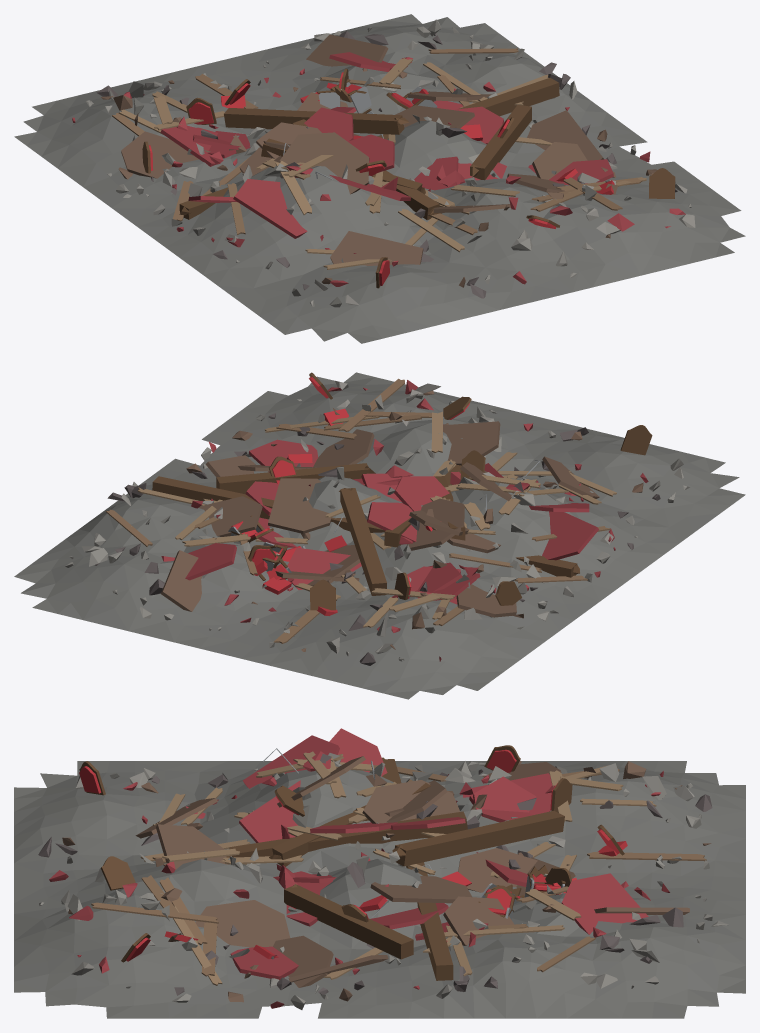
Rendered from rubble_mound_big.glb.
The picture shows the model from 3 angles, top to bottom: view 1: azimuth 30°, elevation 25°; view 2: azimuth 150°, elevation 25°; view 3: azimuth 270°, elevation 25°; orthographic projection. The views are drawn at different scales.
Visible parts, largest first — view 1: concrete_dark__rubble_mound_big__solid, ceiling_theater__rubble_mound_big__solid, wall_theater__rubble_mound_big__solid, dark_wood__rubble_mound_big__solid, concrete__rubble_mound_big__solid, plank__rubble_mound_big__solid, wood__rubble_mound_big__solid, velvet__rubble_mound_big__solid, stone__rubble_mound_big__solid, steel__rubble_mound_big__solid; view 2: concrete_dark__rubble_mound_big__solid, ceiling_theater__rubble_mound_big__solid, wall_theater__rubble_mound_big__solid, dark_wood__rubble_mound_big__solid, concrete__rubble_mound_big__solid, plank__rubble_mound_big__solid, wood__rubble_mound_big__solid, velvet__rubble_mound_big__solid, stone__rubble_mound_big__solid; view 3: concrete_dark__rubble_mound_big__solid, ceiling_theater__rubble_mound_big__solid, wall_theater__rubble_mound_big__solid, dark_wood__rubble_mound_big__solid, concrete__rubble_mound_big__solid, plank__rubble_mound_big__solid, wood__rubble_mound_big__solid, stone__rubble_mound_big__solid, velvet__rubble_mound_big__solid, steel__rubble_mound_big__solid.
Part boxes in pixels (x1=…): concrete_dark__rubble_mound_big__solid: x1=14, y1=14, x2=745, y2=343; ceiling_theater__rubble_mound_big__solid: x1=101, y1=34, x2=657, y2=287; wall_theater__rubble_mound_big__solid: x1=72, y1=52, x2=685, y2=286; dark_wood__rubble_mound_big__solid: x1=142, y1=68, x2=675, y2=288; concrete__rubble_mound_big__solid: x1=86, y1=19, x2=695, y2=307; plank__rubble_mound_big__solid: x1=118, y1=58, x2=646, y2=269; wood__rubble_mound_big__solid: x1=112, y1=48, x2=642, y2=235; velvet__rubble_mound_big__solid: x1=148, y1=72, x2=614, y2=285; stone__rubble_mound_big__solid: x1=97, y1=31, x2=677, y2=298; steel__rubble_mound_big__solid: x1=283, y1=82, x2=437, y2=179; concrete_dark__rubble_mound_big__solid: x1=14, y1=372, x2=745, y2=699; ceiling_theater__rubble_mound_big__solid: x1=161, y1=390, x2=643, y2=651; wall_theater__rubble_mound_big__solid: x1=161, y1=380, x2=648, y2=661; dark_wood__rubble_mound_big__solid: x1=152, y1=372, x2=652, y2=610; concrete__rubble_mound_big__solid: x1=65, y1=380, x2=689, y2=661; plank__rubble_mound_big__solid: x1=137, y1=411, x2=616, y2=627; wood__rubble_mound_big__solid: x1=106, y1=378, x2=610, y2=643; velvet__rubble_mound_big__solid: x1=231, y1=376, x2=469, y2=615; stone__rubble_mound_big__solid: x1=95, y1=413, x2=660, y2=665; concrete_dark__rubble_mound_big__solid: x1=14, y1=761, x2=745, y2=1018; ceiling_theater__rubble_mound_big__solid: x1=62, y1=756, x2=711, y2=1002; wall_theater__rubble_mound_big__solid: x1=49, y1=728, x2=669, y2=1008; dark_wood__rubble_mound_big__solid: x1=79, y1=745, x2=624, y2=980; concrete__rubble_mound_big__solid: x1=39, y1=753, x2=728, y2=1009; plank__rubble_mound_big__solid: x1=140, y1=751, x2=656, y2=985; wood__rubble_mound_big__solid: x1=91, y1=765, x2=706, y2=976; stone__rubble_mound_big__solid: x1=38, y1=754, x2=712, y2=995; velvet__rubble_mound_big__solid: x1=79, y1=749, x2=627, y2=961; steel__rubble_mound_big__solid: x1=262, y1=748, x2=564, y2=919.
Size of the model in its own units: 10 by 1.89 by 12.
